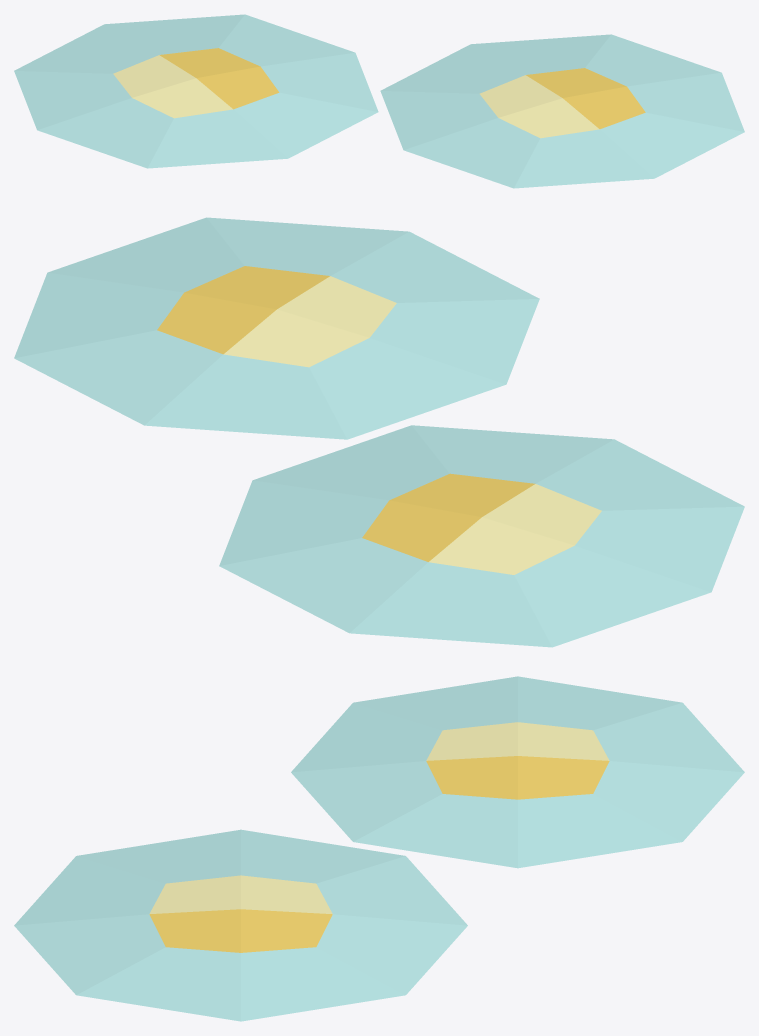
The model's file is Eggs.fbx.
The picture shows the model from 3 angles, top to bottom: view 1: azimuth 30°, elevation 25°; view 2: azimuth 150°, elevation 25°; view 3: azimuth 270°, elevation 25°; orthographic projection. The views are drawn at different scales.
Visible parts, largest first — view 1: Eggs; view 2: Eggs; view 3: Eggs.
Part boxes in pixels (x1,y1,x2,y2): Eggs: [14, 14, 744, 188]; Eggs: [14, 217, 744, 647]; Eggs: [14, 676, 744, 1021].
Bounding box in the file's own units: 37.91 × 1.68 × 33.92.
